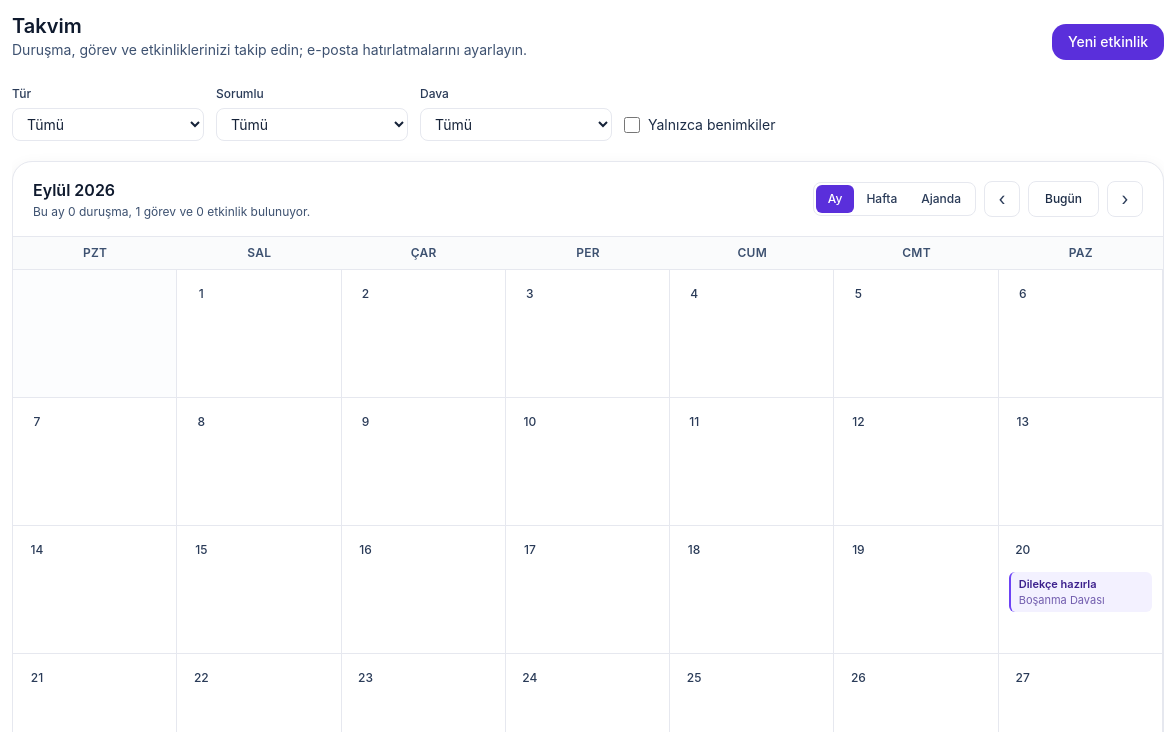
Test: CalendarView › loads the visible month and navigates between months
The image size is (1176, 732).
expect the text "Dilekçe hazırla" is shown: met, box 1019,577 -> 1096,591
Click the button named "Sonraki ay".
click(1125, 199)  # box 1107,181 -> 1143,217
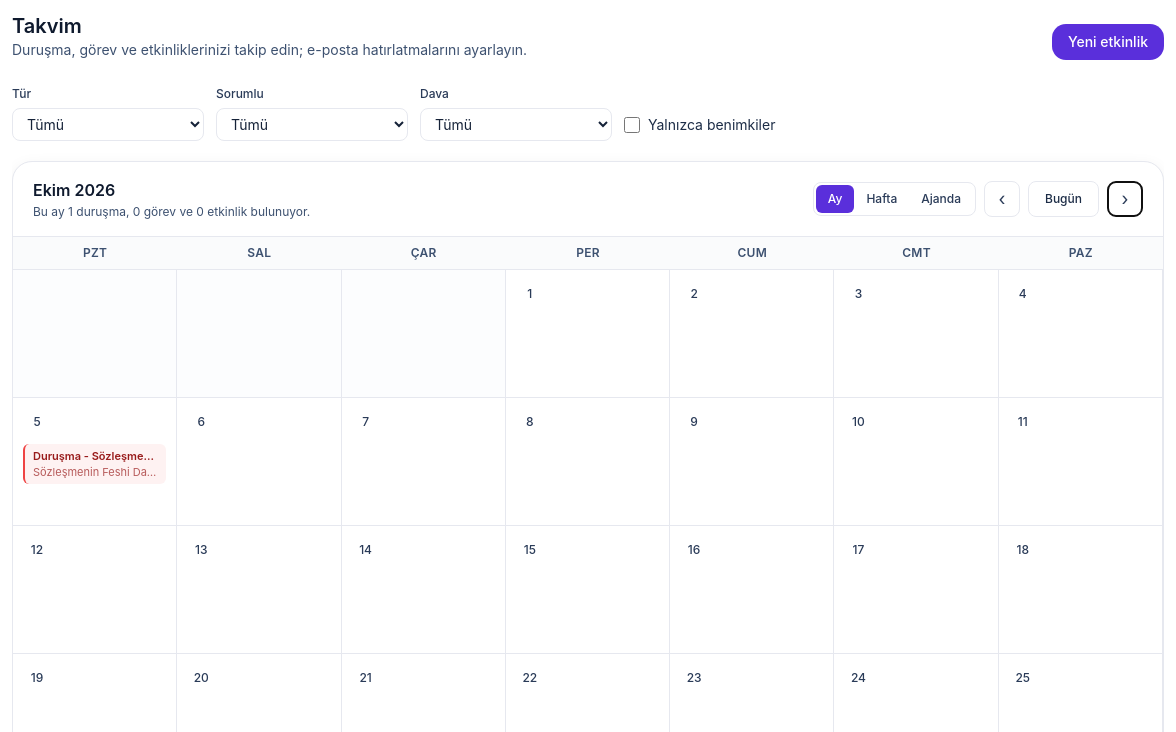
expect the text "Duruşma - Sözleşmenin Feshi Davası" is shown: met, box 33,448 -> 158,464
